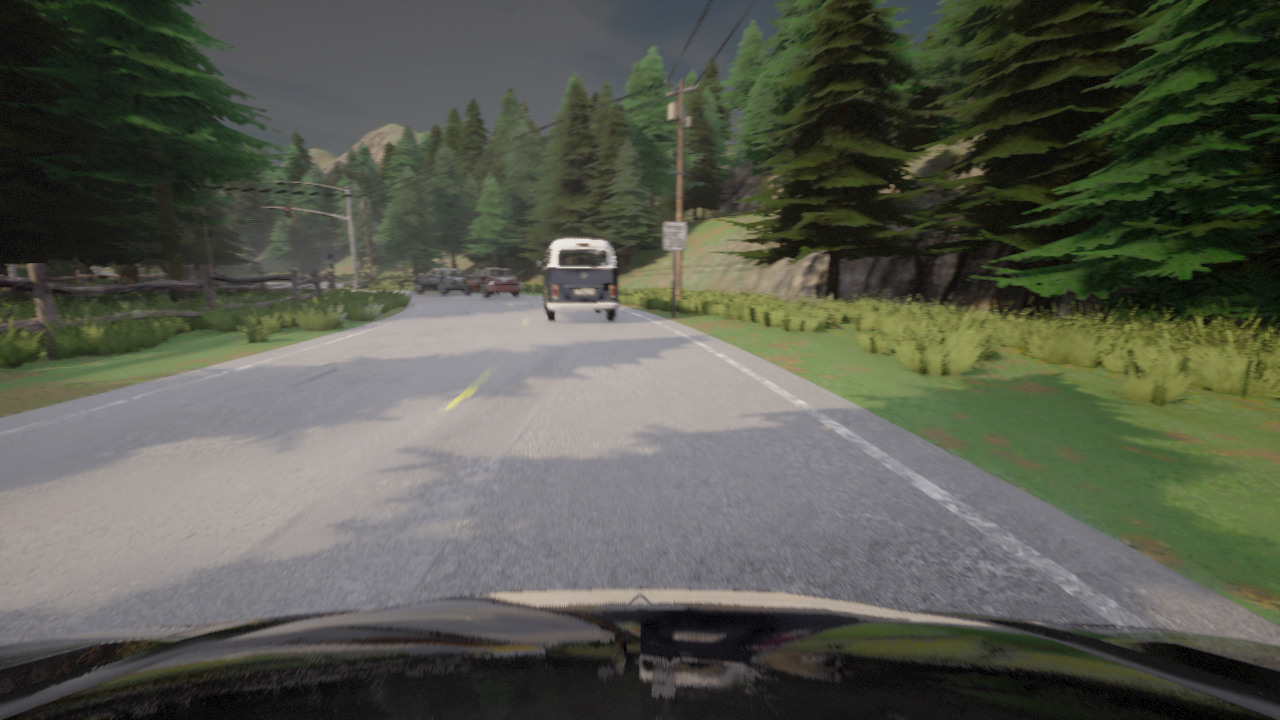cyclist: (0, 588, 1279, 719), (537, 238, 619, 321), (462, 268, 520, 297), (414, 269, 467, 294)
